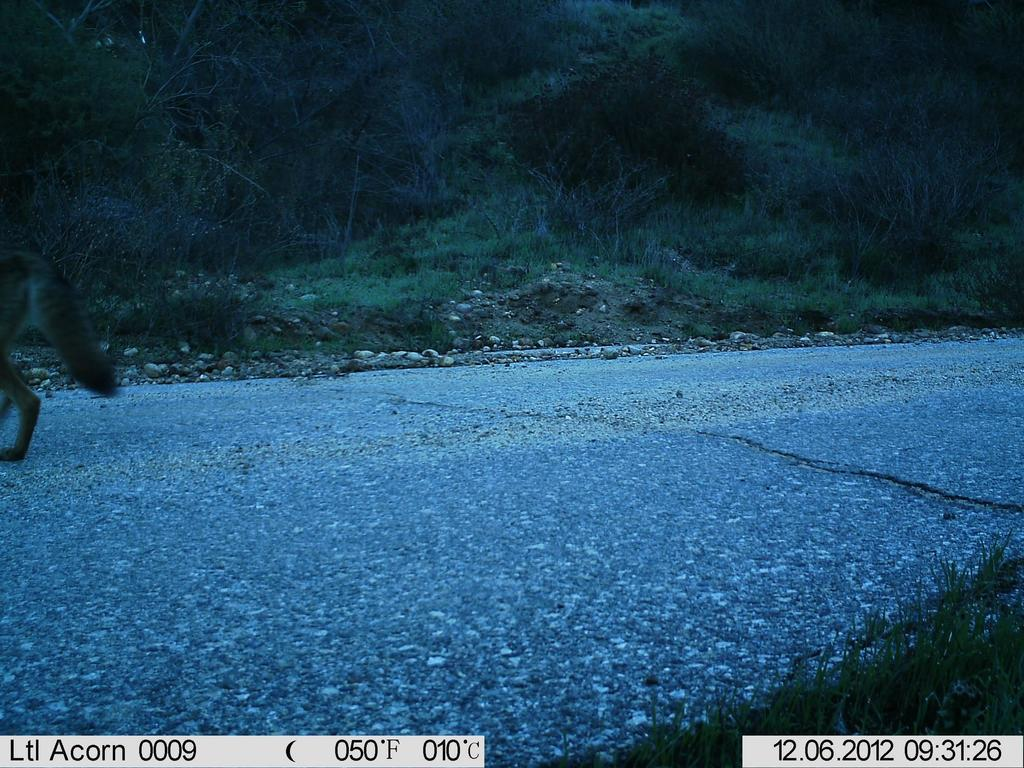coyote: (7, 233, 137, 477)
